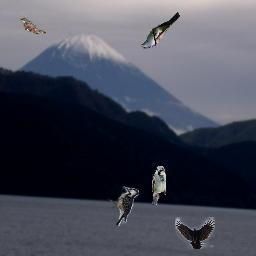Crow: (175, 217, 215, 249)
Cuckoo: (140, 12, 180, 49), (20, 17, 46, 35)
Sparrow: (152, 166, 166, 205)
Woodpecker: (107, 186, 139, 226)
